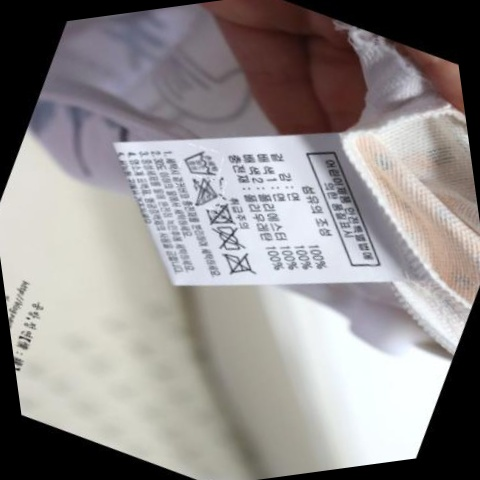DN_bleach: (191, 173, 227, 206)
DN_iron: (224, 249, 255, 280)
DN_tumble_dry: (204, 202, 236, 227)
DN_wring: (217, 224, 244, 254)
hand_wash: (184, 144, 220, 177)
